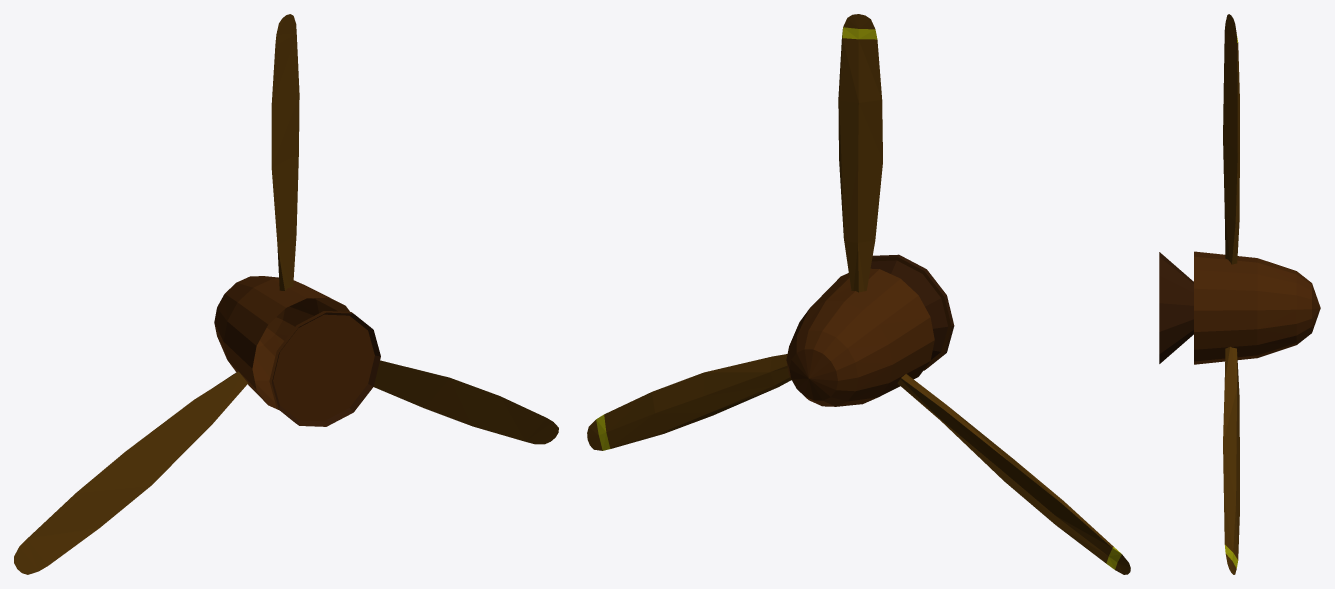
The model's file is prop_A6M2.obj.
The picture shows the model from 3 angles, left to right: view 1: azimuth 30°, elevation 25°; view 2: azimuth 150°, elevation 25°; view 3: azimuth 270°, elevation 25°; orthographic projection. The views are drawn at different scales.
Visible parts, largest first — view 1: ShapeIndexedFaceSet.099_ShapeIndexedFaceSet.100, ShapeIndexedFaceSet.017_ShapeIndexedFaceSet.018, ShapeIndexedFaceSet.016_ShapeIndexedFaceSet.017; view 2: ShapeIndexedFaceSet.099_ShapeIndexedFaceSet.100, ShapeIndexedFaceSet.017_ShapeIndexedFaceSet.018, ShapeIndexedFaceSet.016_ShapeIndexedFaceSet.017, ShapeIndexedFaceSet.100_ShapeIndexedFaceSet.101; view 3: ShapeIndexedFaceSet.017_ShapeIndexedFaceSet.018, ShapeIndexedFaceSet.099_ShapeIndexedFaceSet.100, ShapeIndexedFaceSet.016_ShapeIndexedFaceSet.017.
Boxes of the visible parts, left/top/right/bottom form: ShapeIndexedFaceSet.099_ShapeIndexedFaceSet.100: left=14, top=14, right=558, bottom=574; ShapeIndexedFaceSet.017_ShapeIndexedFaceSet.018: left=214, top=276, right=374, bottom=421; ShapeIndexedFaceSet.016_ShapeIndexedFaceSet.017: left=272, top=312, right=380, bottom=426; ShapeIndexedFaceSet.099_ShapeIndexedFaceSet.100: left=587, top=14, right=1130, bottom=574; ShapeIndexedFaceSet.017_ShapeIndexedFaceSet.018: left=786, top=256, right=951, bottom=406; ShapeIndexedFaceSet.016_ShapeIndexedFaceSet.017: left=870, top=254, right=954, bottom=367; ShapeIndexedFaceSet.100_ShapeIndexedFaceSet.101: left=596, top=27, right=1121, bottom=569; ShapeIndexedFaceSet.017_ShapeIndexedFaceSet.018: left=1194, top=251, right=1320, bottom=364; ShapeIndexedFaceSet.099_ShapeIndexedFaceSet.100: left=1223, top=14, right=1239, bottom=574; ShapeIndexedFaceSet.016_ShapeIndexedFaceSet.017: left=1159, top=252, right=1193, bottom=363.
Size of the model in its own units: 25.8 by 22.5 by 7.4.
